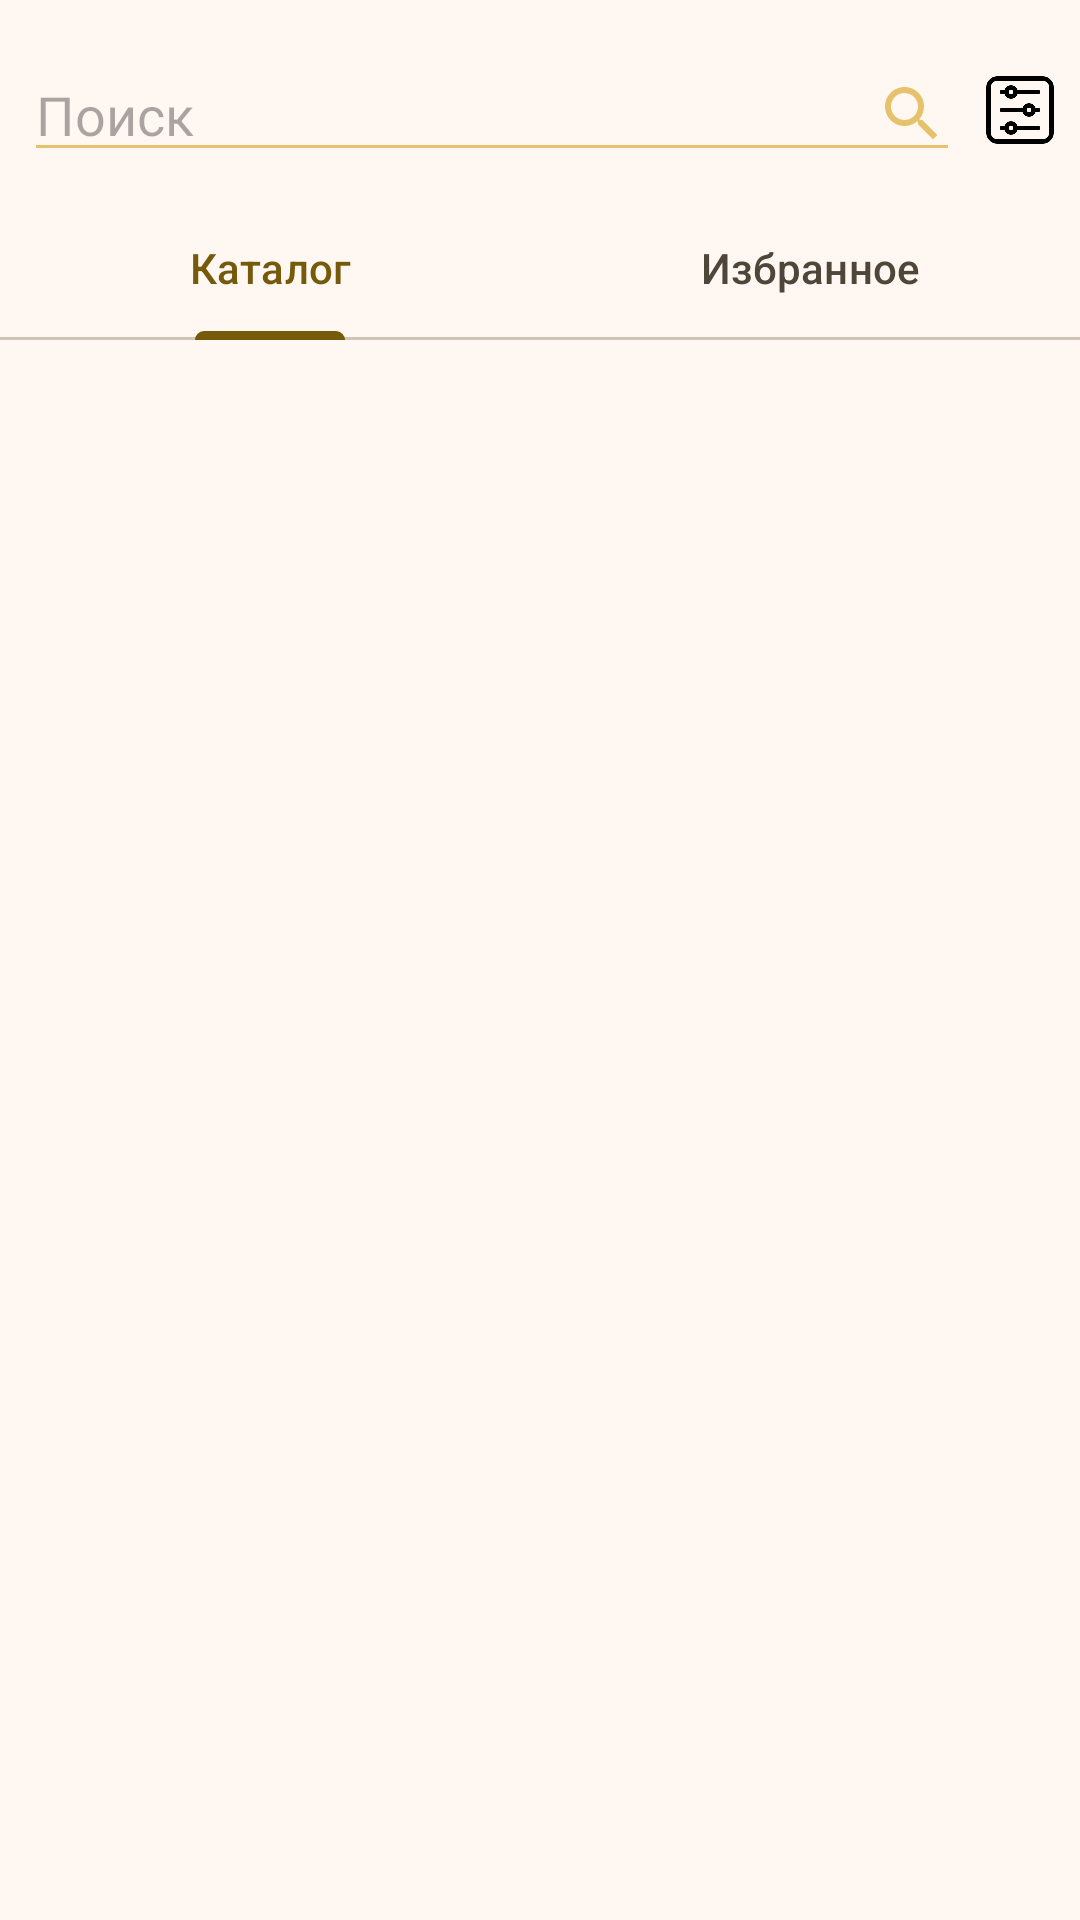

Locate icon controls on the screen. Image size 1080px x 1920px, boxes as (x1, y1, x2, y2).
Фильтр: (986, 76, 1054, 144)
